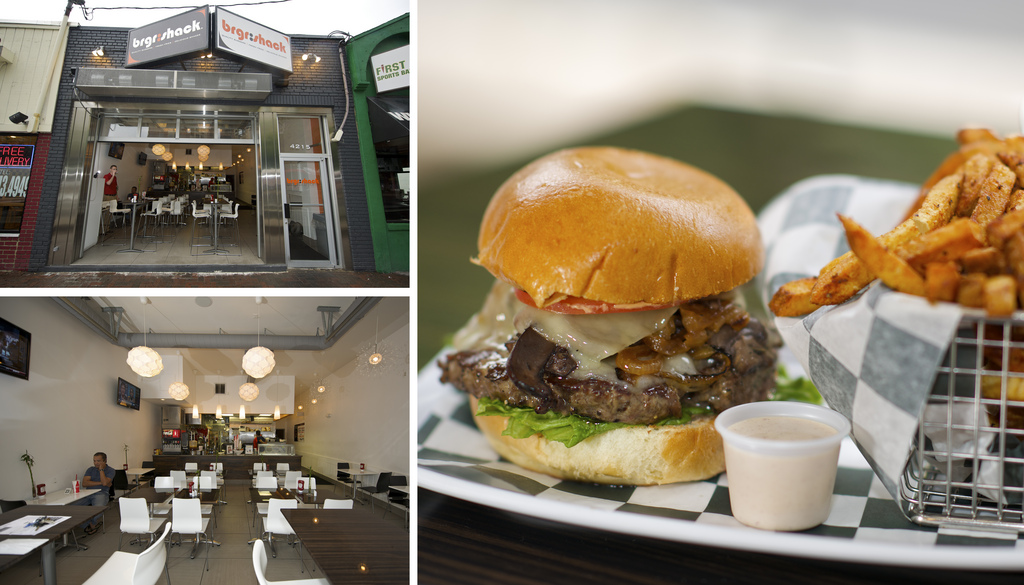slice of bread: (485, 141, 771, 307)
